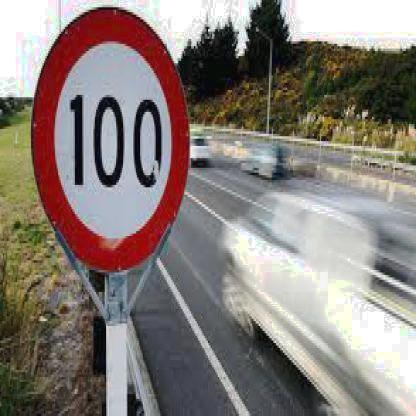Speed Limit -100-: (26, 3, 188, 280)
